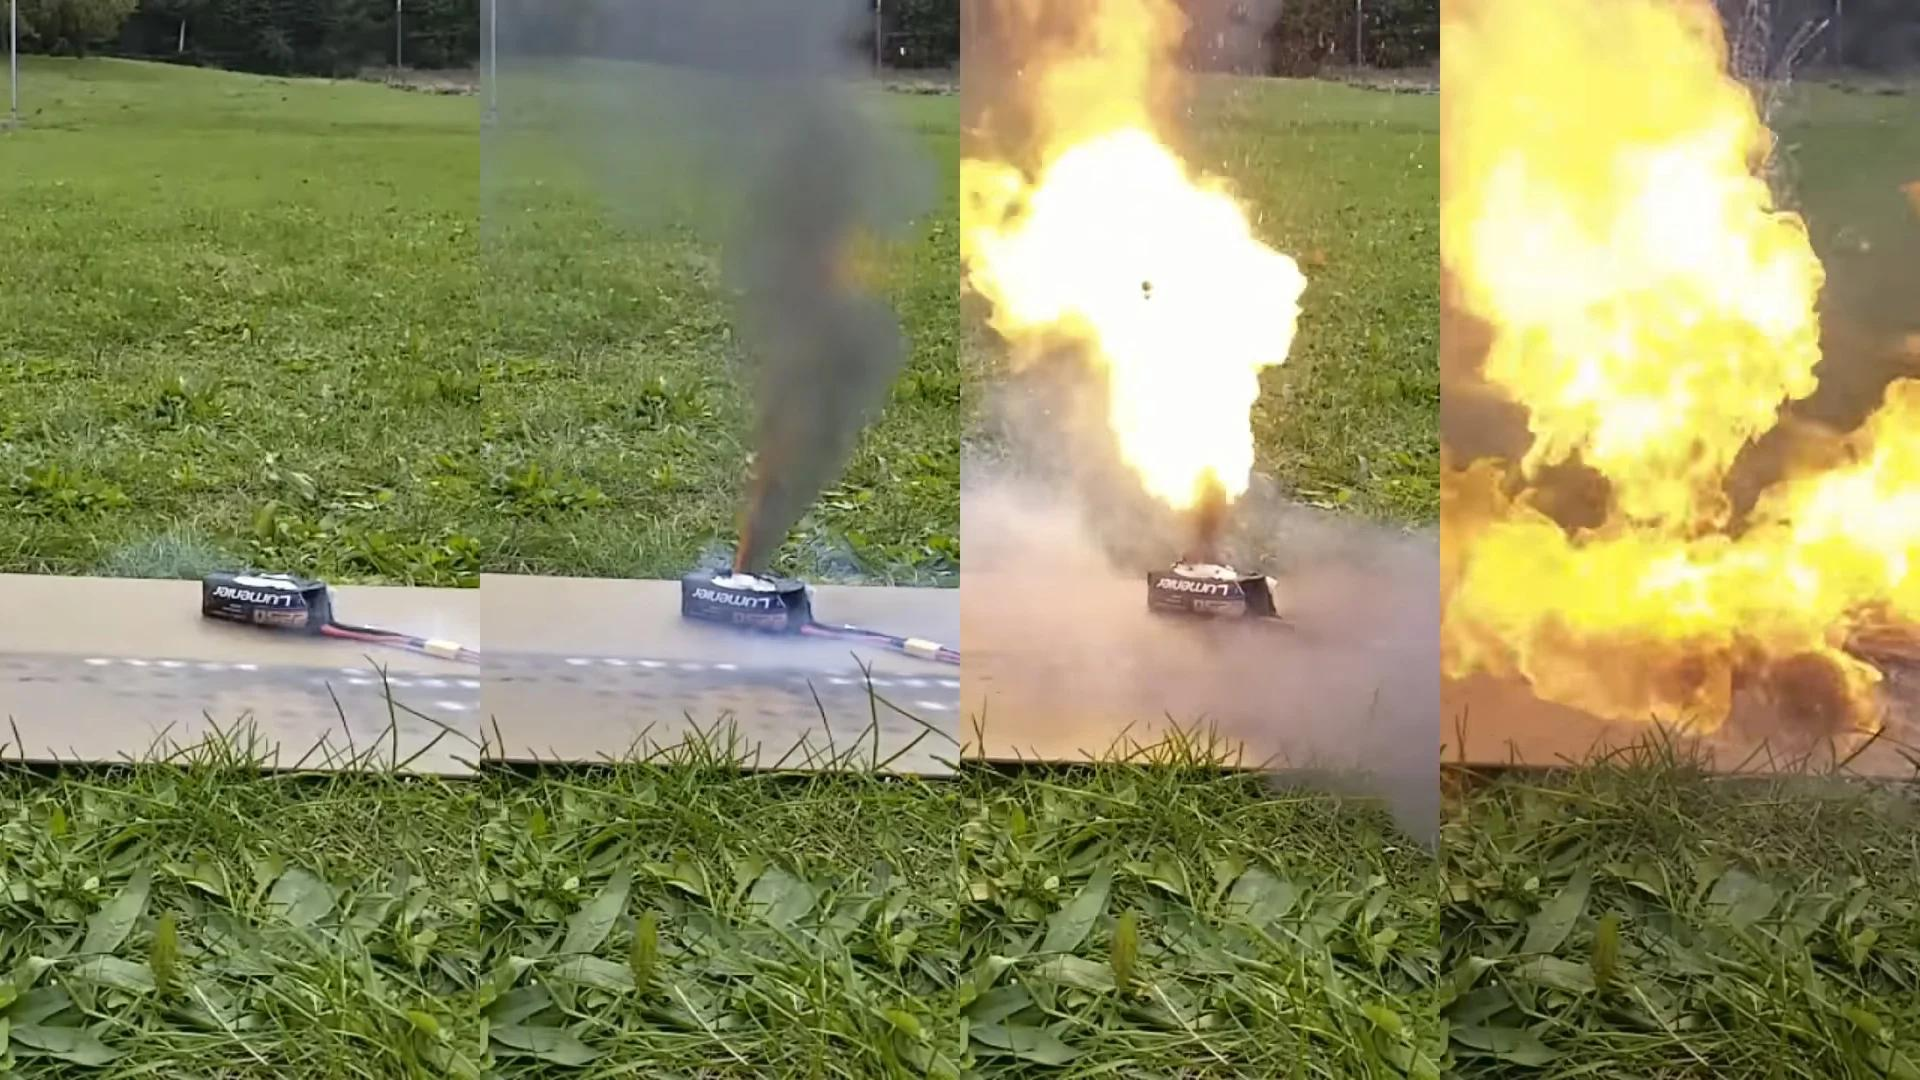fire: (1433, 5, 1917, 781), (1011, 69, 1365, 567)
